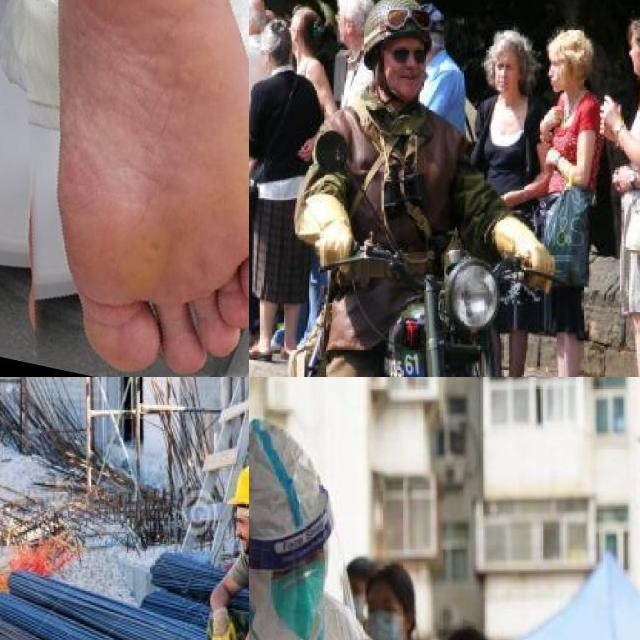Barefoots: (43, 0, 249, 377)
face_mask: (266, 537, 326, 640), (360, 589, 409, 640)
face_nomask: (391, 44, 430, 92), (546, 55, 574, 94), (493, 58, 519, 92)
glasses: (380, 43, 426, 66)
hand_glove: (304, 217, 358, 269), (513, 237, 561, 292), (206, 606, 243, 640)
hand_noglove: (594, 90, 626, 134), (539, 106, 567, 134), (298, 137, 318, 161), (546, 140, 562, 169)
head_helmet: (347, 0, 441, 56), (225, 461, 249, 511)
head_nohelmet: (362, 554, 410, 599), (454, 614, 532, 640), (488, 20, 530, 63), (550, 29, 591, 60), (262, 17, 293, 46), (249, 0, 268, 19)
person: (316, 0, 459, 377), (249, 423, 395, 640), (471, 26, 532, 377), (249, 18, 306, 367), (540, 24, 594, 377), (197, 462, 249, 640)
